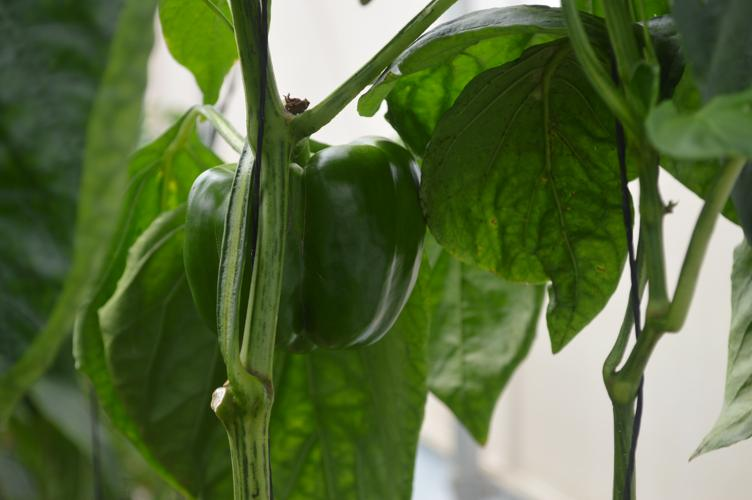BellPepper: (182, 138, 426, 350)
